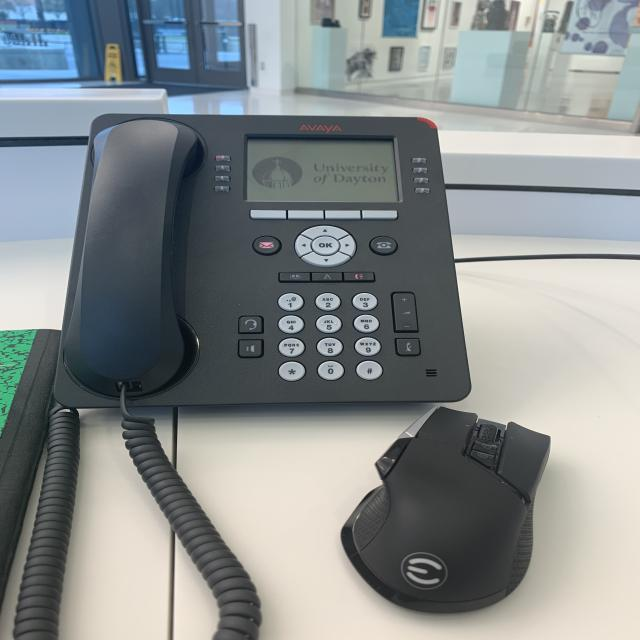Mouse: (332, 402, 583, 612)
